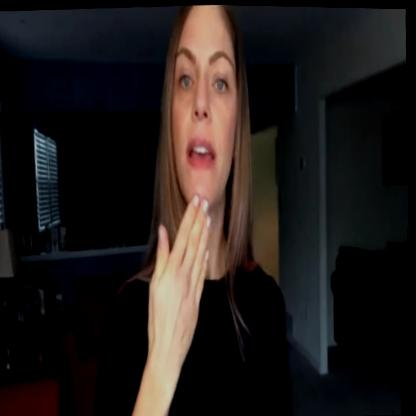ThankYou: (124, 2, 269, 370)
